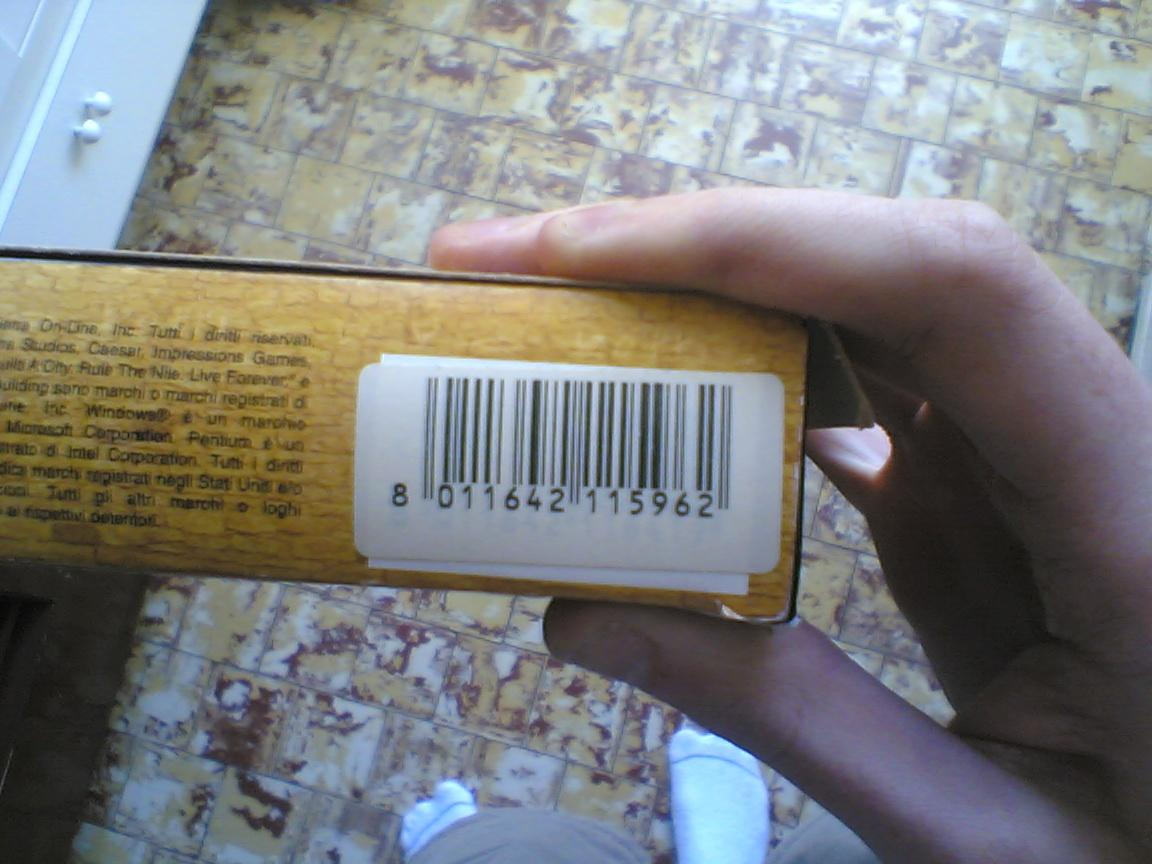Barcode: (377, 374, 751, 533)
